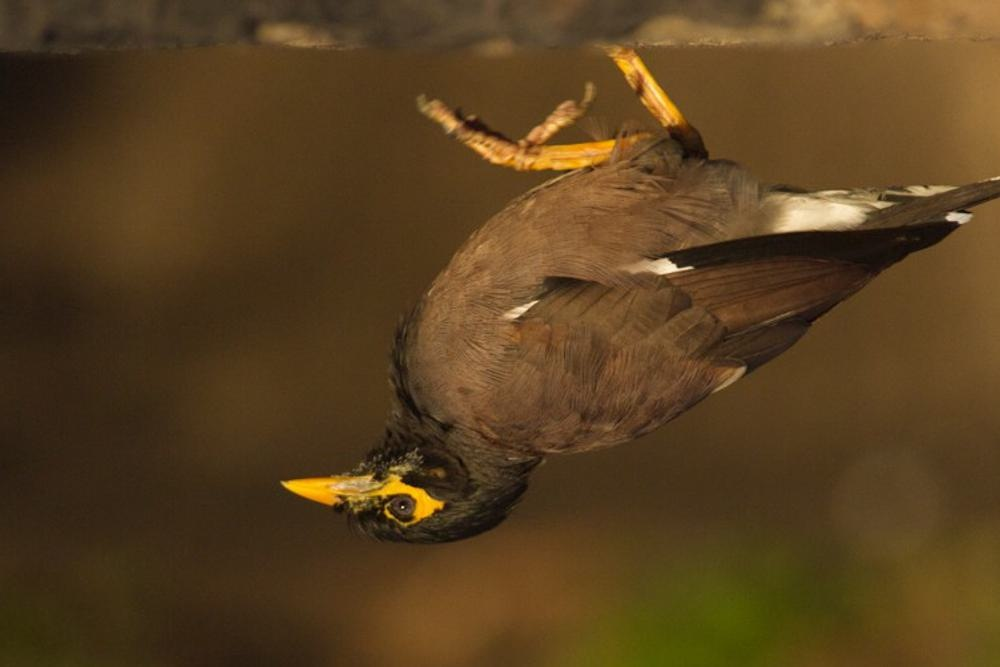myna: (285, 99, 915, 552)
